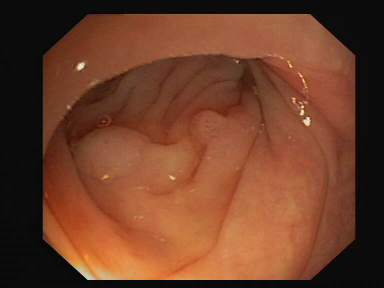polyp: (71, 110, 150, 185), (176, 99, 229, 152)
